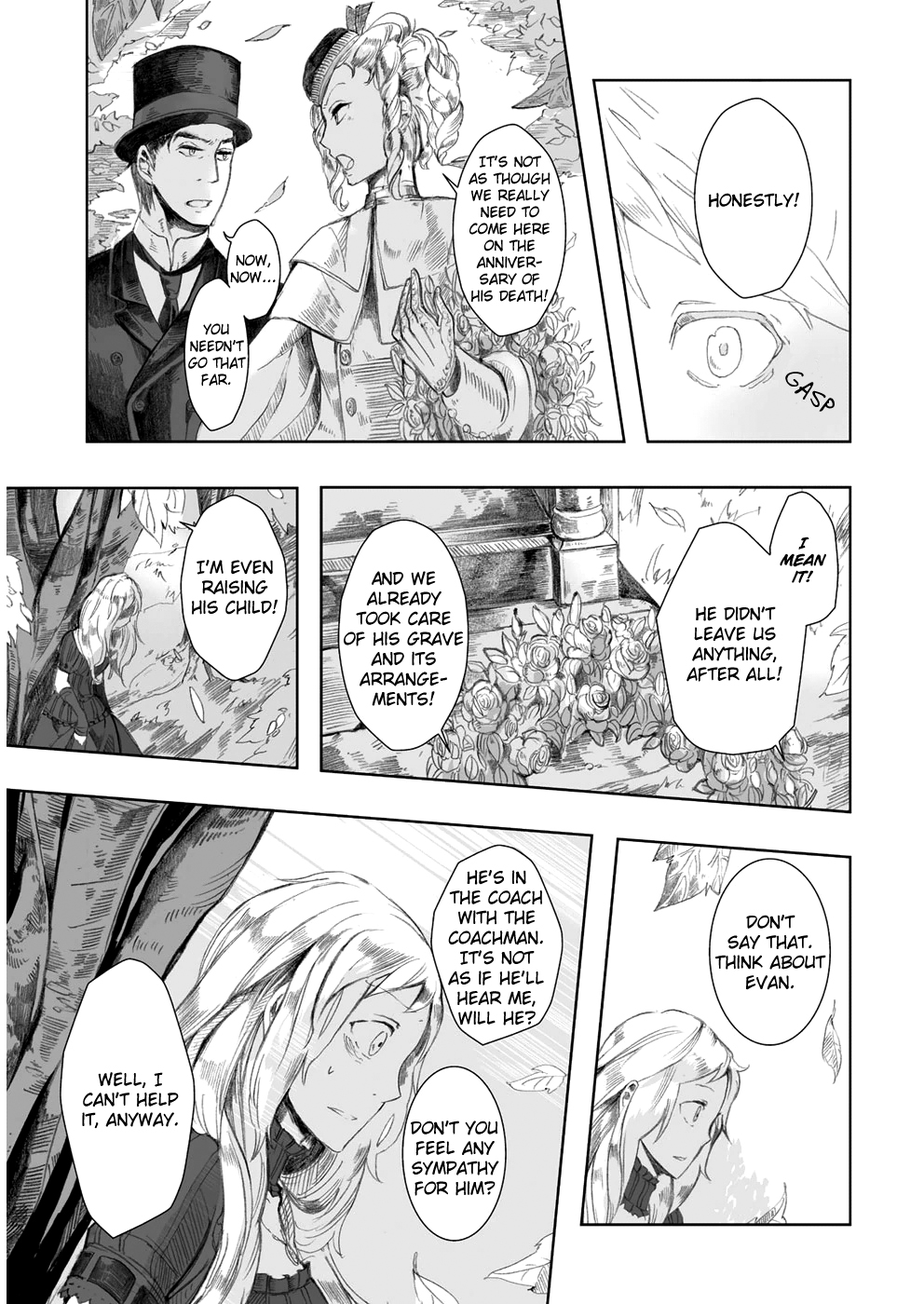bubble: (60, 958, 195, 1239), (655, 522, 807, 760), (339, 520, 469, 752), (443, 123, 569, 337), (432, 845, 564, 1045), (695, 98, 814, 300), (709, 860, 831, 1046), (179, 494, 287, 682), (401, 1066, 505, 1240), (184, 276, 249, 433), (770, 491, 838, 626), (223, 218, 283, 320)
